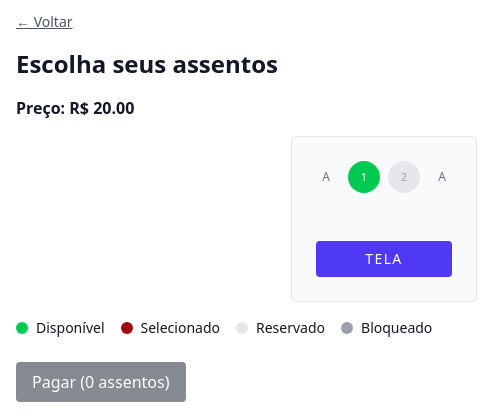
it: SessionSeatsPage (integration) › should hold the seat via the API when a free seat is selected
This screenshot has width=494, height=419.
WHEN the user clicks the free seat
Click the button titled "A1 — Disponível" at (364, 177), box [348, 161, 380, 193]
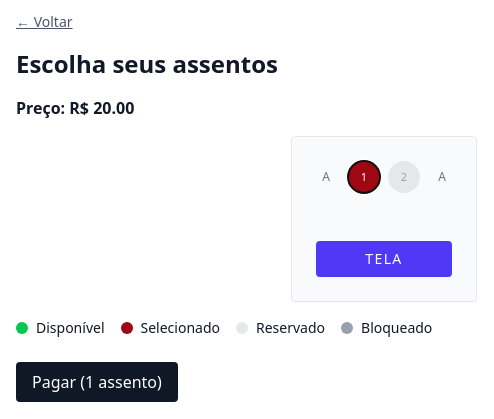
Expected: the button titled "A1 — Selecionado" is shown, [348, 161, 380, 193]
